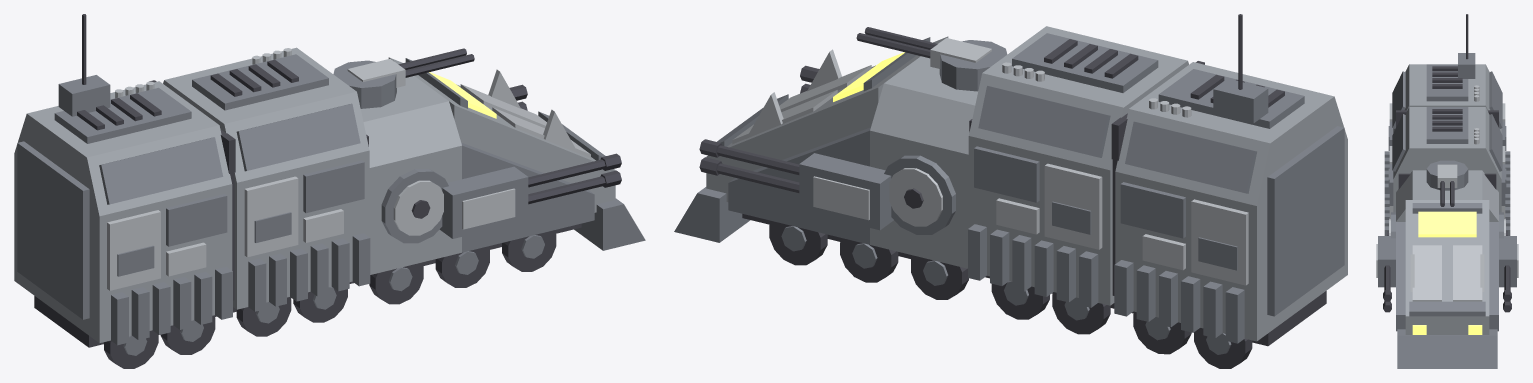
Rendered from Locomotive_Armor.fbx.
3 renders of one model, left to right at view 1: azimuth 30°, elevation 25°; view 2: azimuth 150°, elevation 25°; view 3: azimuth 270°, elevation 25°, orthographic. The views are drawn at different scales.
Parts seen in each view (by area): view 1: Locomotive_Armor; view 2: Locomotive_Armor; view 3: Locomotive_Armor.
Part boxes in pixels (left/top/right/bottom): Locomotive_Armor: left=14, top=14, right=645, bottom=368; Locomotive_Armor: left=674, top=14, right=1347, bottom=368; Locomotive_Armor: left=1376, top=14, right=1518, bottom=368.
Size of the model in its own units: 5.87 by 3.2 by 2.04.
